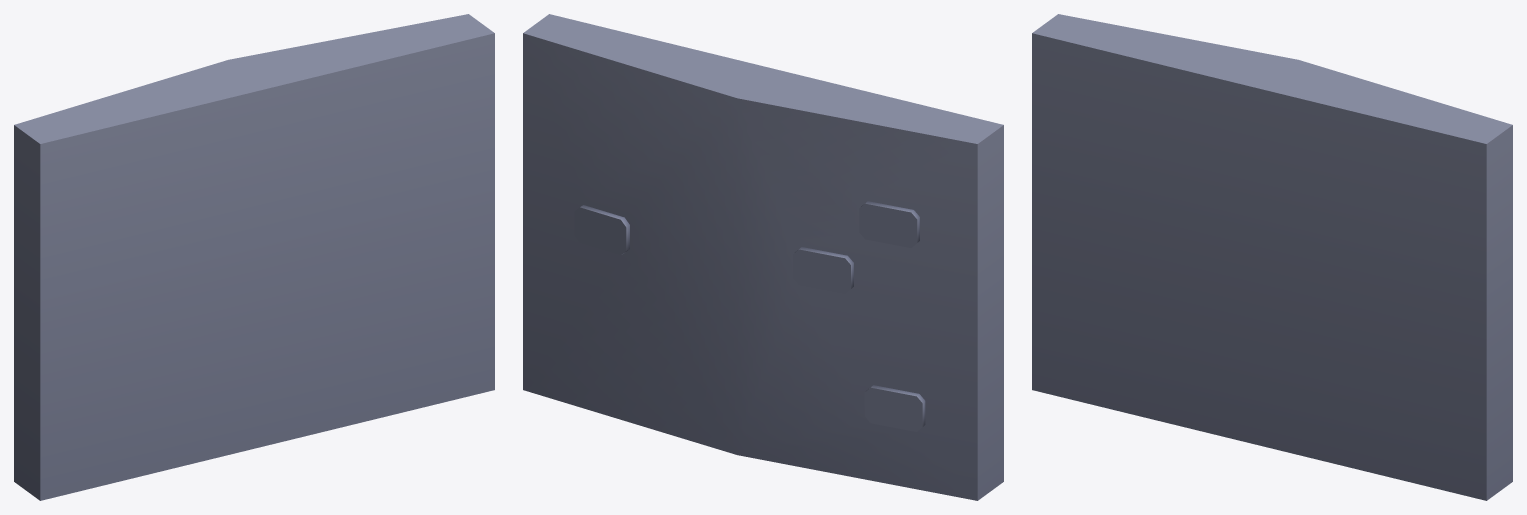
File: template-wall-top.fbx
3 renders of one model, left to right at view 1: azimuth 30°, elevation 25°; view 2: azimuth 150°, elevation 25°; view 3: azimuth 330°, elevation 25°, orthographic.
Visible parts, largest first — view 1: template-wall-top; view 2: template-wall-top; view 3: template-wall-top.
Boxes of the visible parts, x1,y1,x2,y2 form: template-wall-top: [14, 14, 494, 500]; template-wall-top: [523, 14, 1003, 500]; template-wall-top: [1032, 14, 1512, 500].
Bounding box in the file's own units: 400 × 300 × 60.11.
Materials: 1 (1 with a texture image).
